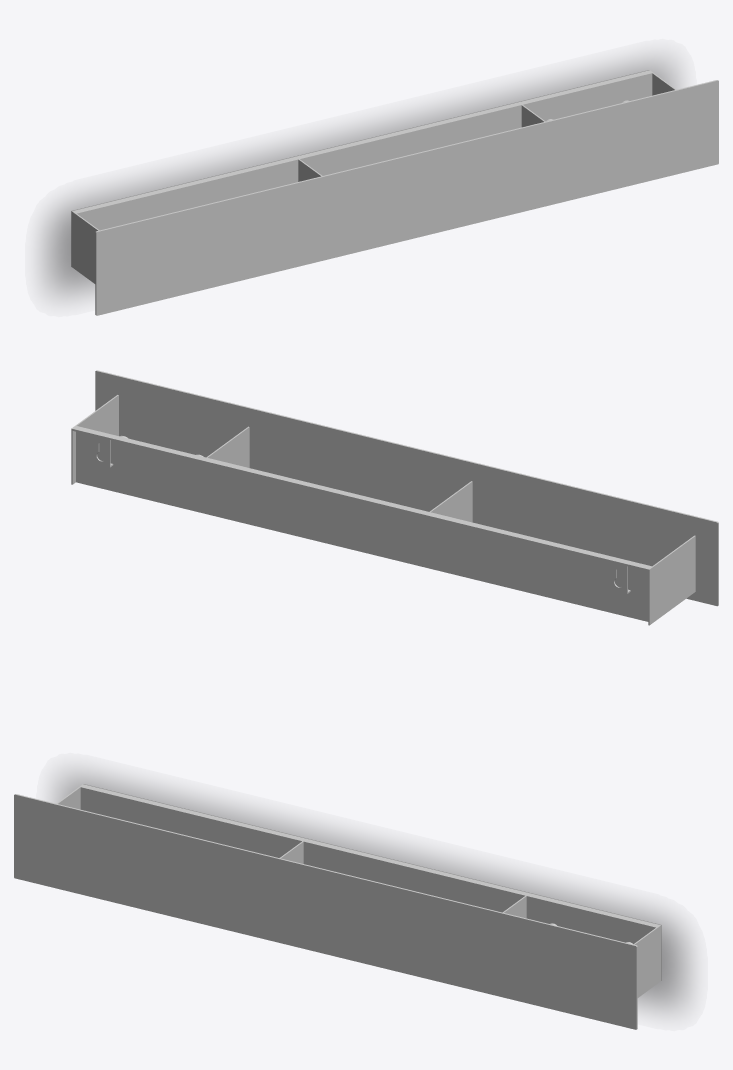
Rendered from skyline-patron.c9aa00cd4f.ar.glb.
3 renders of one model, top to bottom at view 1: azimuth 30°, elevation 25°; view 2: azimuth 150°, elevation 25°; view 3: azimuth 330°, elevation 25°, orthographic.
Parts seen in each view (by area): view 1: NAUO1, object 2; view 2: NAUO1; view 3: NAUO1, object 2.
Boxes of the visible parts, x1=… form: NAUO1: x1=71, y1=70, x2=718, y2=315; object 2: x1=42, y1=59, x2=678, y2=296; NAUO1: x1=71, y1=370, x2=718, y2=625; NAUO1: x1=14, y1=784, x2=661, y2=1029; object 2: x1=54, y1=773, x2=690, y2=1010.
Size of the model in its own units: 0.78 by 0.17 by 0.092.
2 materials, 1 textured.
